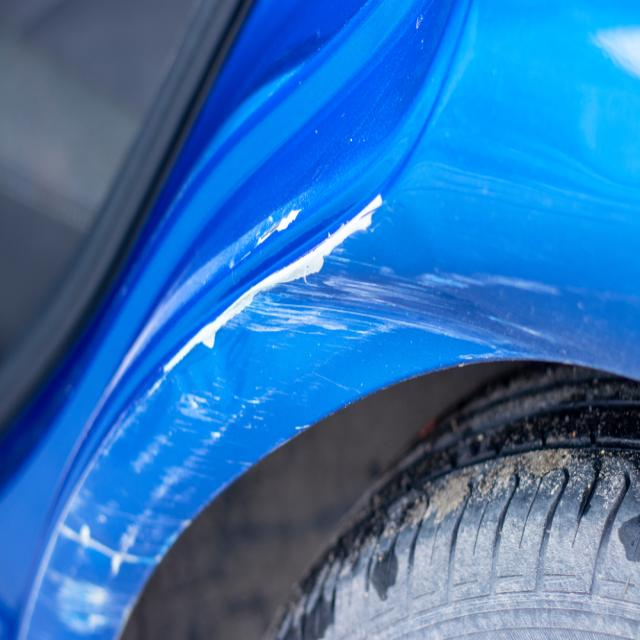dent: (167, 204, 431, 421)
scratch: (41, 369, 314, 634), (393, 272, 579, 365)
